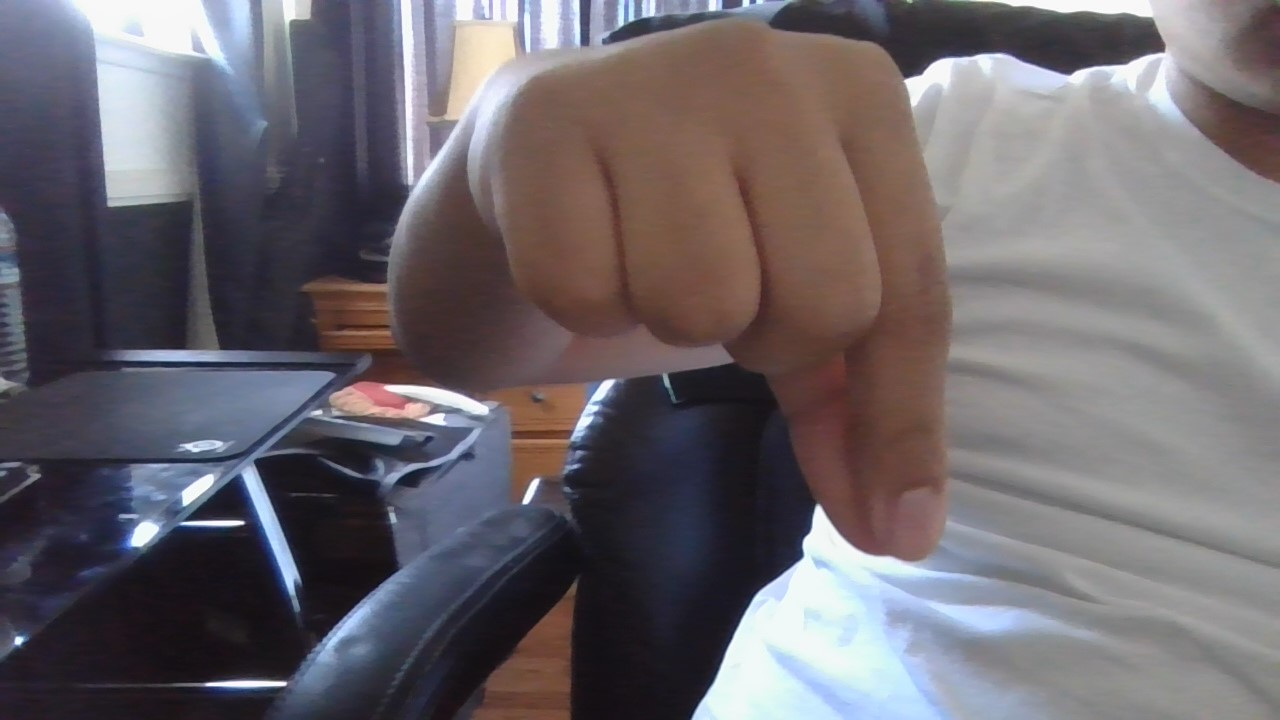q: (427, 10, 1070, 628)
